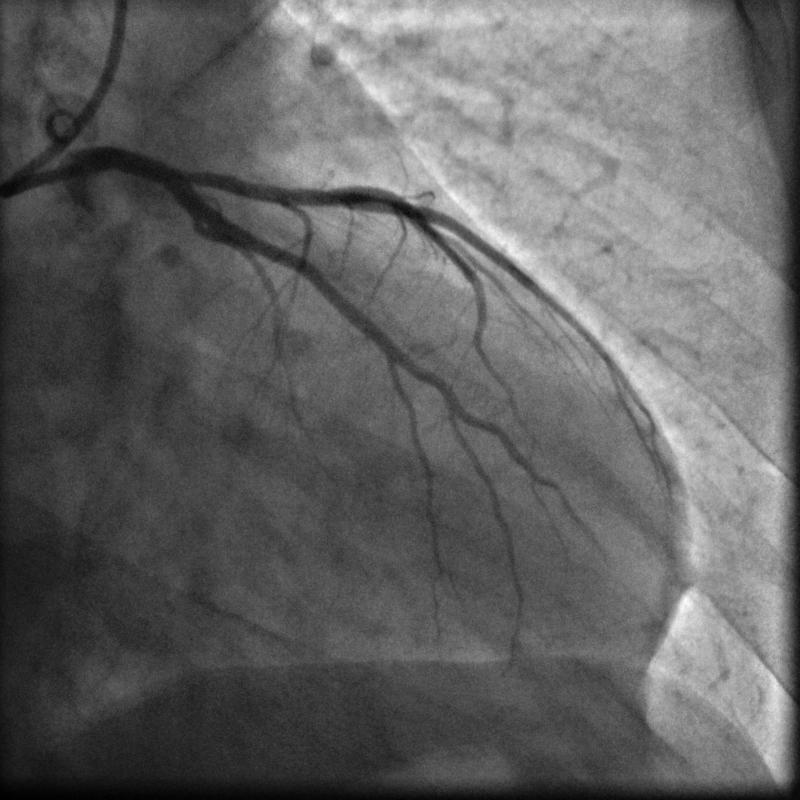Stenosis: (175, 157, 214, 189)
